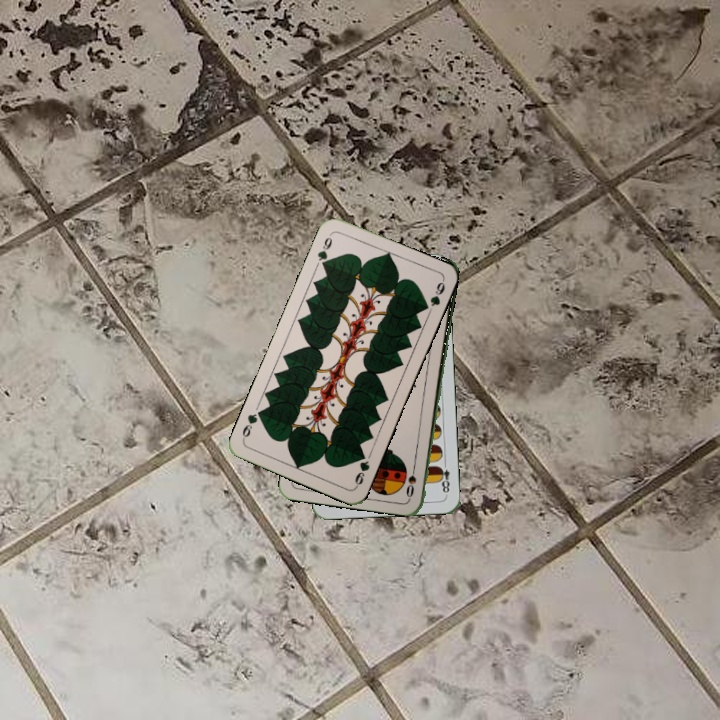E8: (435, 457, 452, 498)
G9: (313, 230, 335, 271), (351, 449, 372, 490)
SO: (402, 460, 419, 500)
